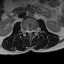CCS_normal: (29, 28, 31, 36)
LFS_normal: (33, 28, 35, 33)
LLS_normal: (31, 28, 33, 34)
RFS_normal: (24, 28, 26, 34)
RLS_normal: (26, 28, 29, 34)
